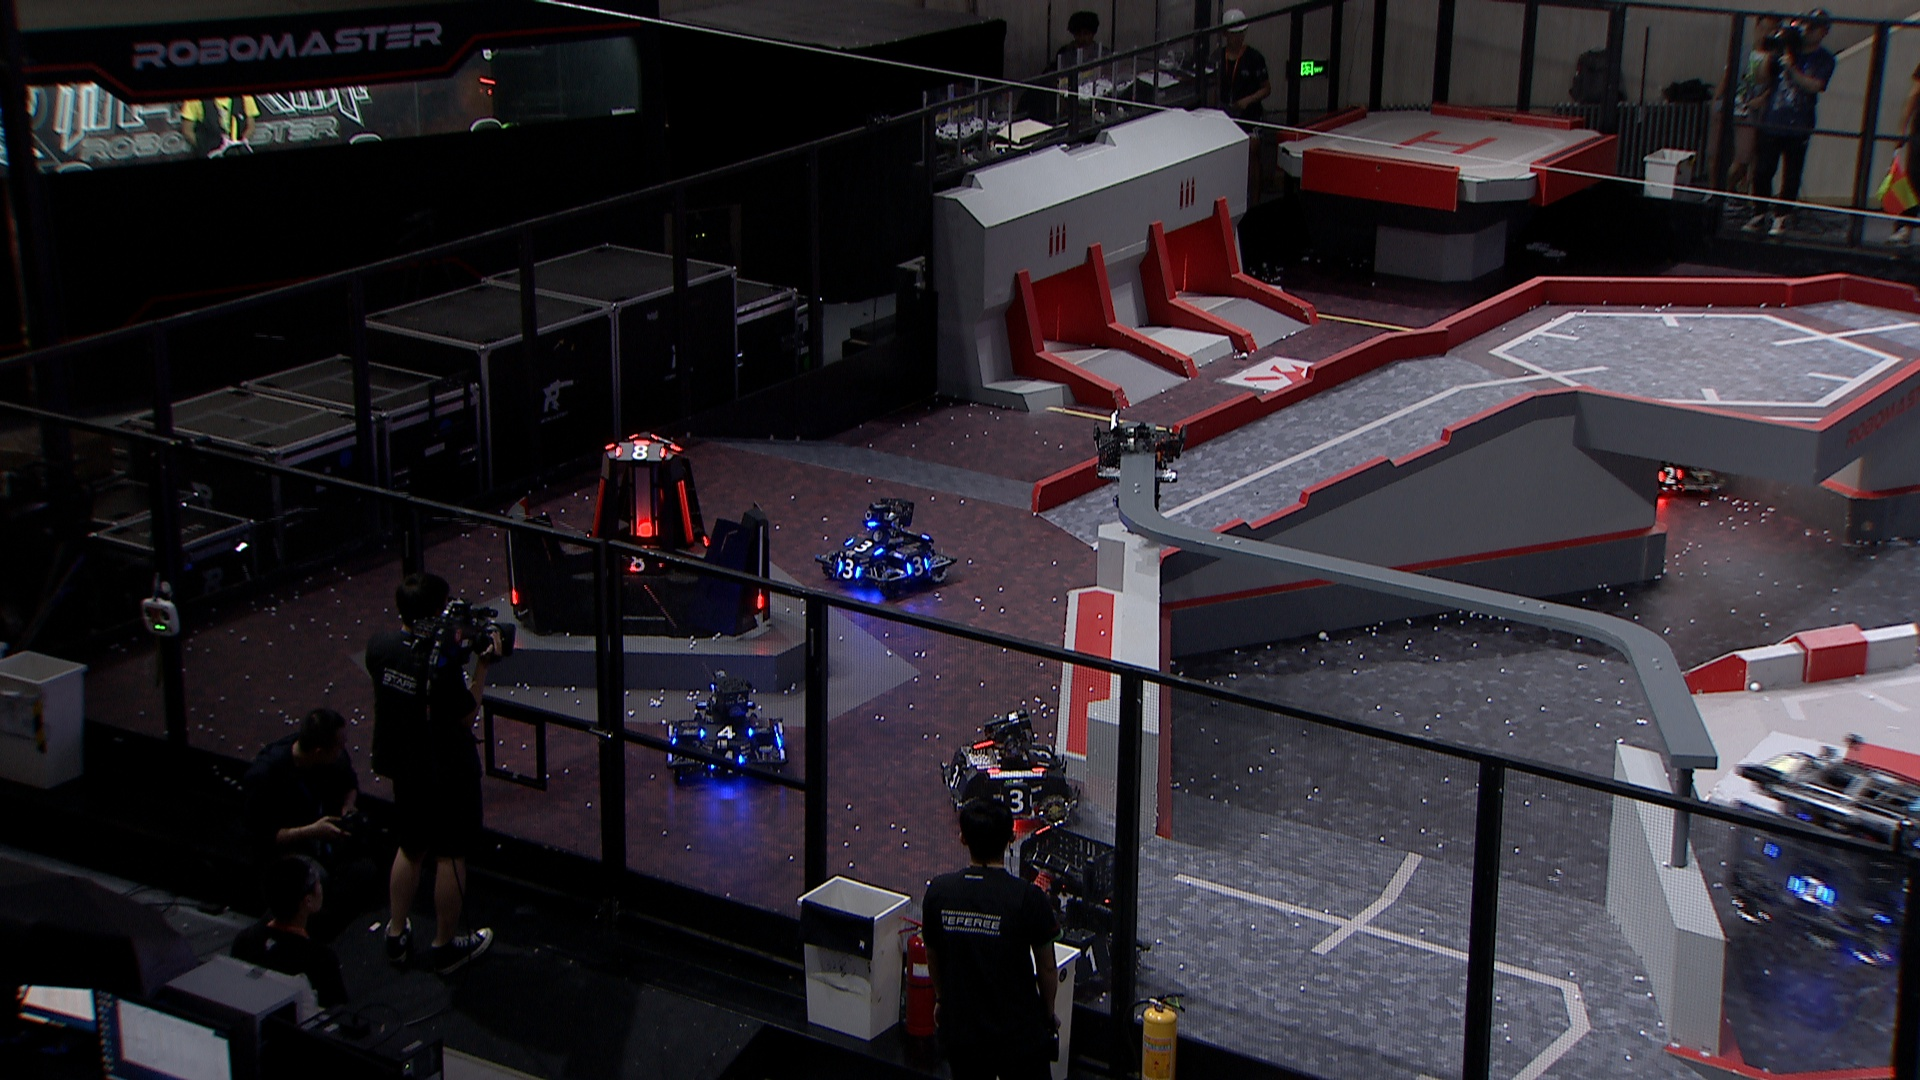armor: (1073, 940, 1116, 975), (1789, 872, 1832, 902), (676, 480, 694, 549), (588, 476, 605, 541), (700, 723, 750, 740), (997, 793, 1034, 815), (708, 752, 745, 773), (618, 553, 659, 571), (847, 538, 885, 556), (615, 444, 662, 458), (944, 760, 964, 789), (833, 559, 864, 578), (632, 514, 654, 538), (1029, 741, 1051, 764), (907, 555, 931, 574), (1658, 465, 1681, 483), (754, 588, 765, 611), (509, 585, 520, 605)
base: (498, 429, 773, 640)
car: (1726, 736, 1920, 963), (1001, 831, 1149, 1002), (938, 713, 1083, 827), (820, 495, 961, 599), (662, 674, 793, 779), (1627, 417, 1730, 517)
watcher: (1088, 404, 1188, 529)
